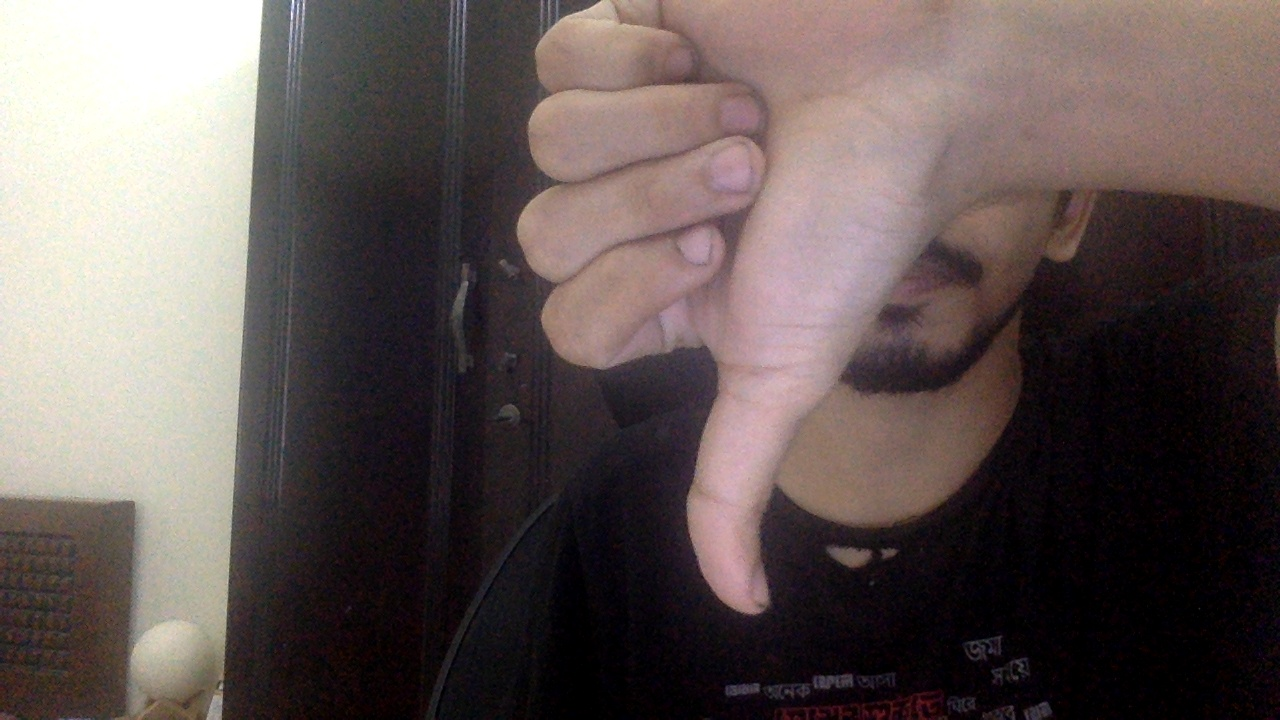bad: (517, 2, 930, 615)
